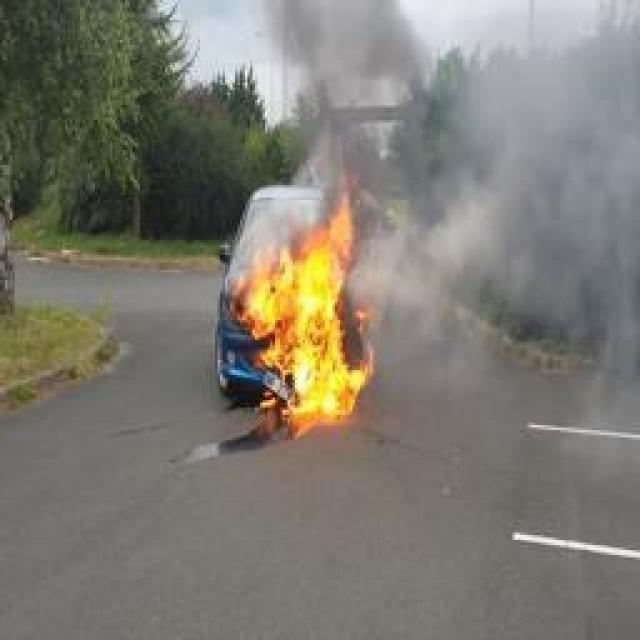Fire: (232, 184, 376, 424)
